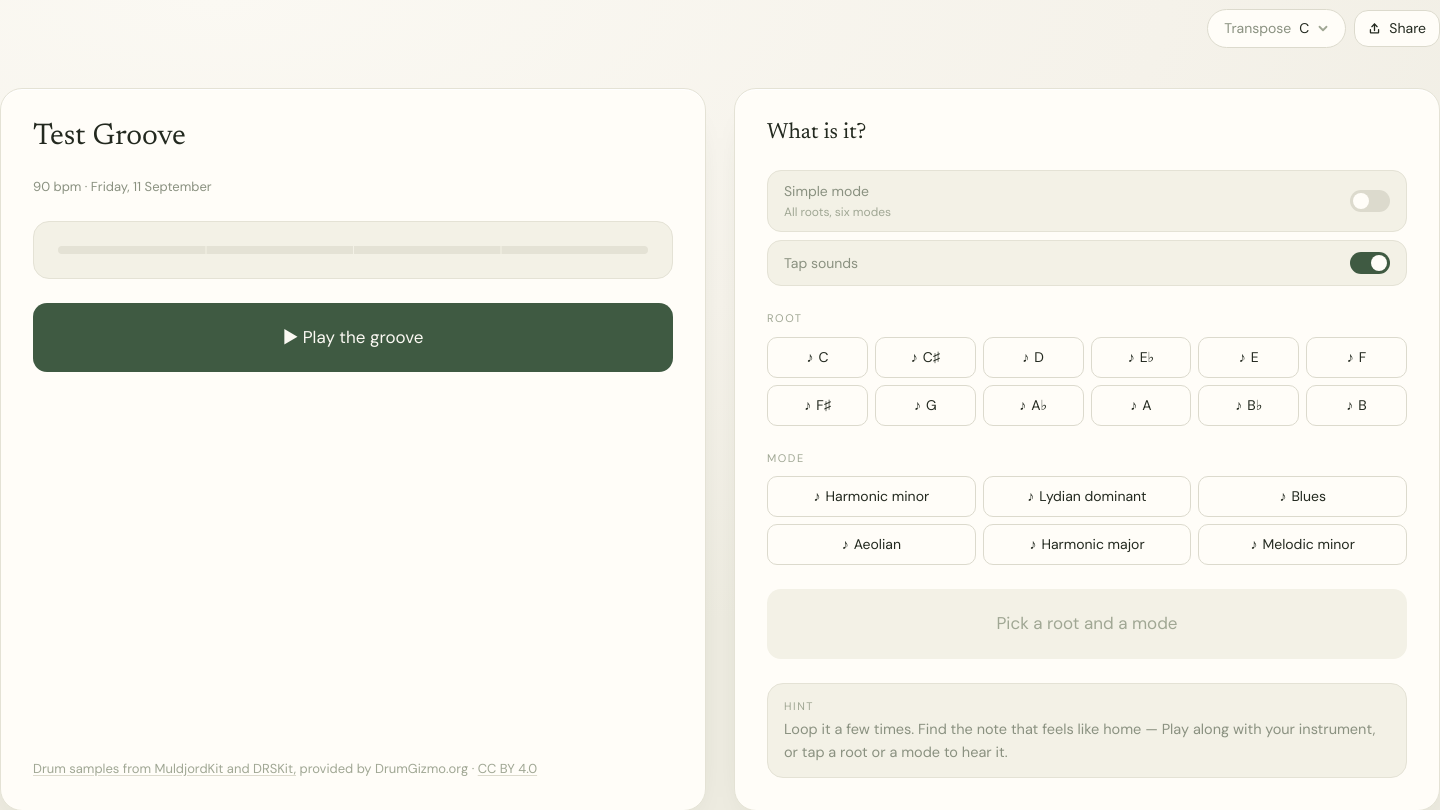
Test: GroovePuzzle › records the guess and names the half that matched on each wrong guess (E3 R1, R3, AC2, AC5, AC7)
(page scrolled)
Click the button "♪ G": click(925, 405) x1=875 y1=385 x2=976 y2=426
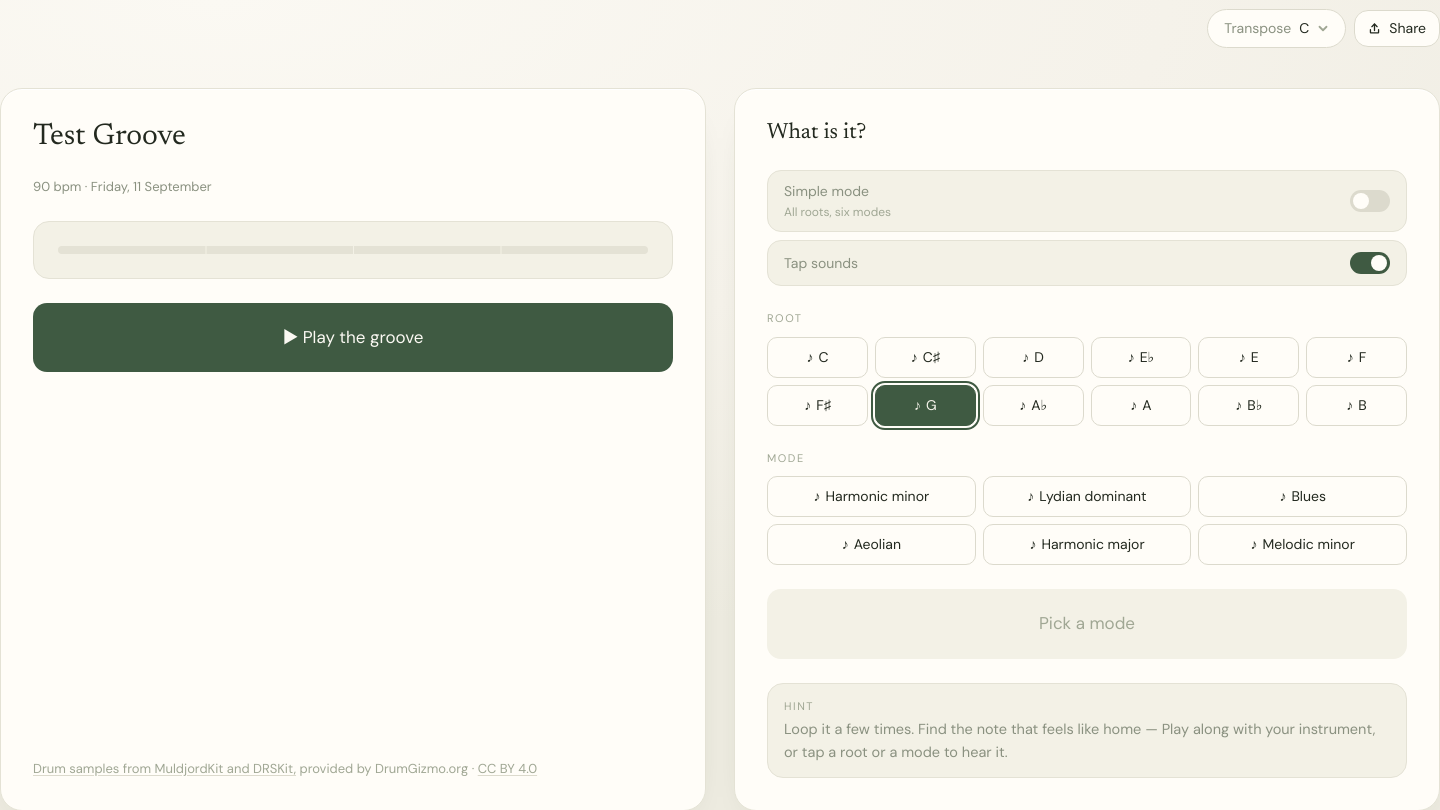
Click the button "♪ Harmonic minor": click(871, 497) x1=767 y1=476 x2=976 y2=517
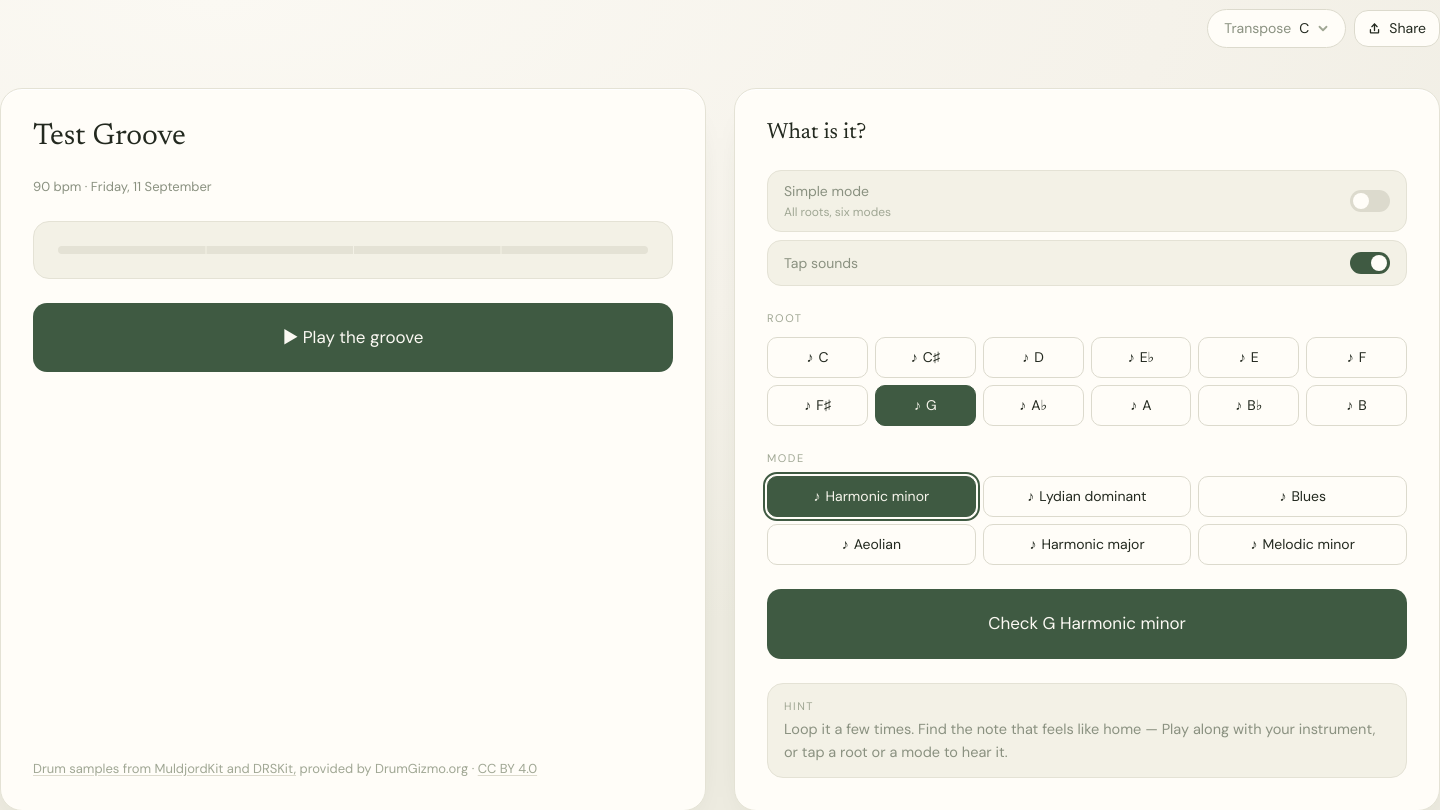
Click the button "Check G Harmonic minor": click(1087, 624) x1=767 y1=589 x2=1407 y2=659
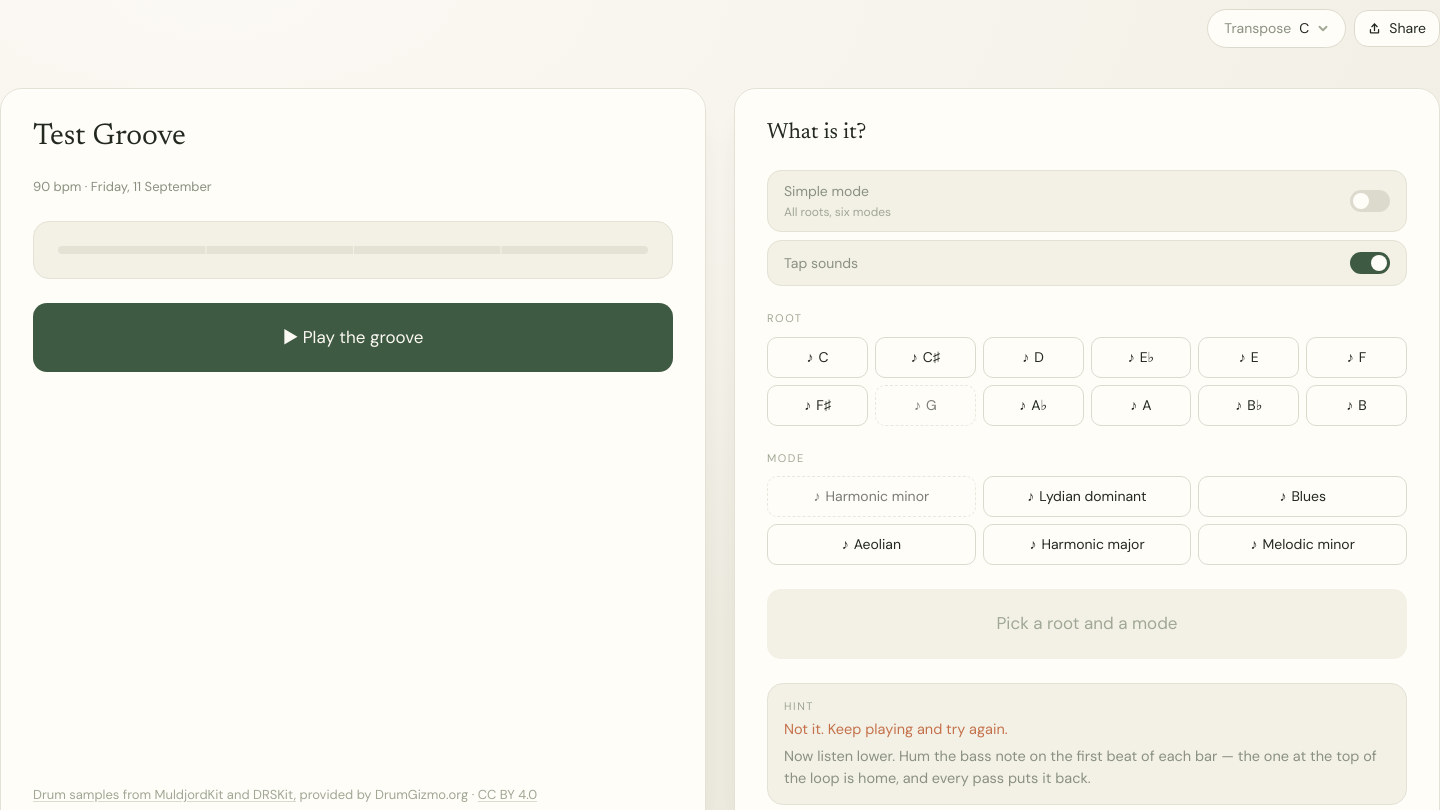
Expected: the text "Not it. Keep playing and try again." is shown, x1=784 y1=720 x2=1008 y2=738
Click the button "♪ C": click(817, 357) x1=767 y1=337 x2=868 y2=378
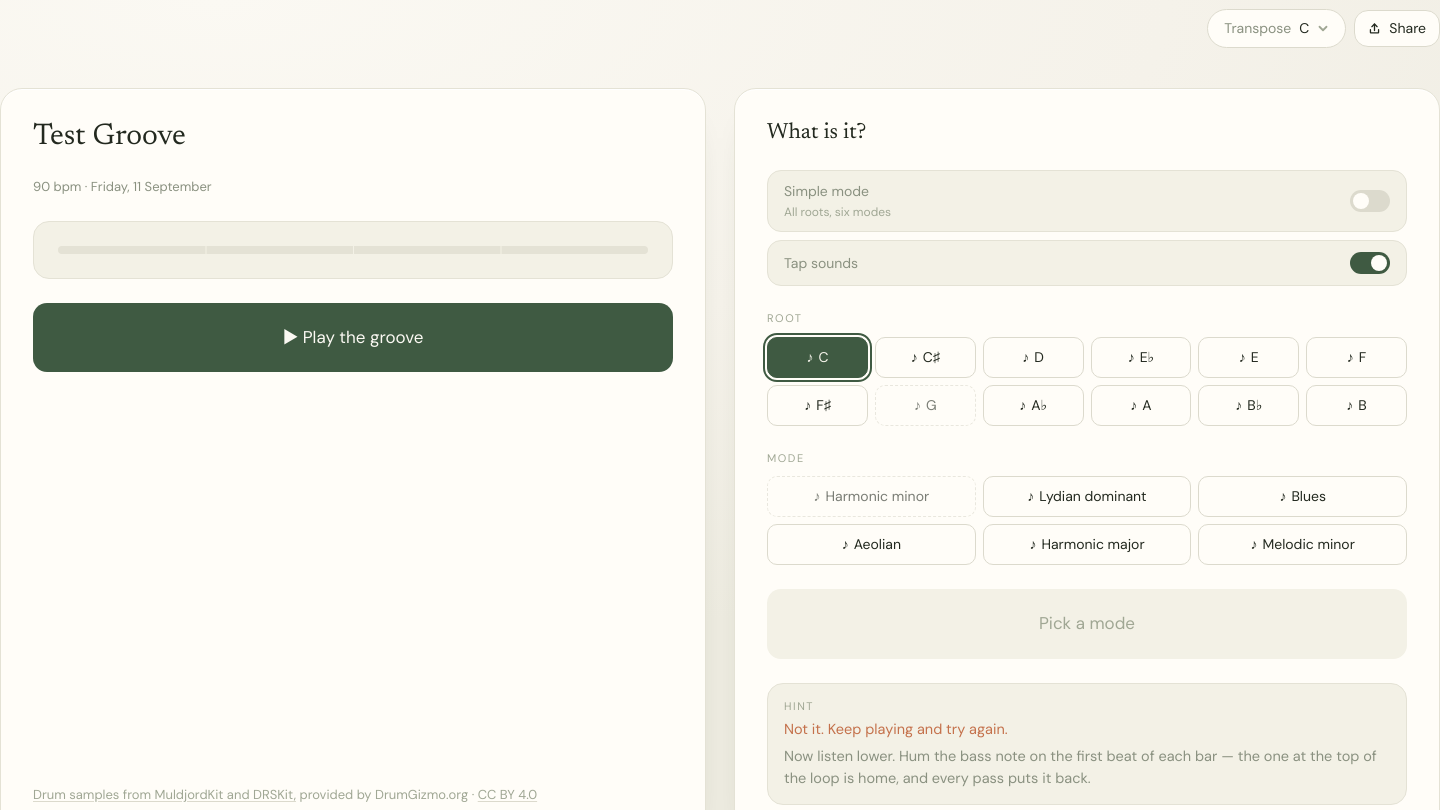
Click the button "♪ Lydian dominant": click(1087, 497) x1=983 y1=476 x2=1191 y2=517
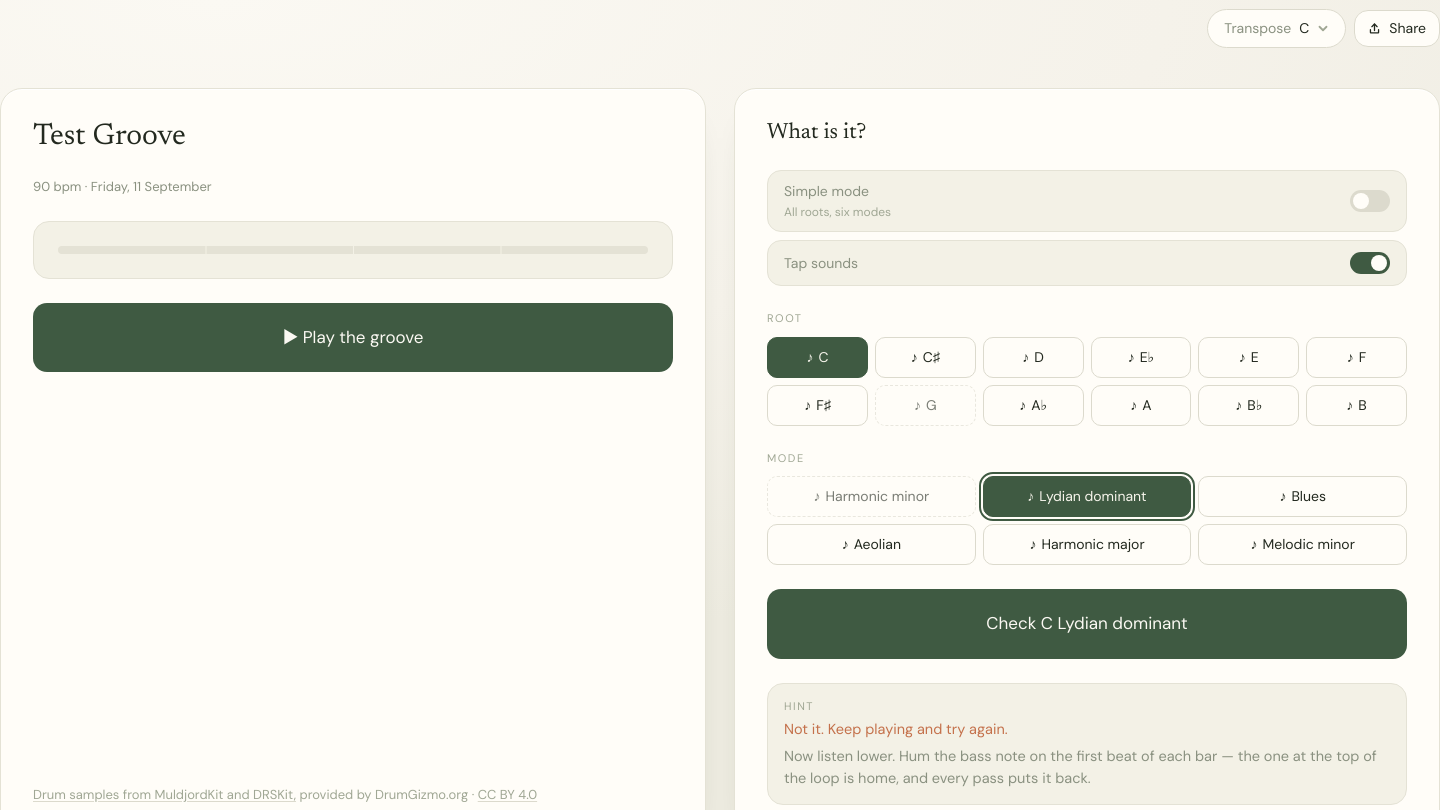
Click the button "Check C Lydian dominant": click(1087, 624) x1=767 y1=589 x2=1407 y2=659
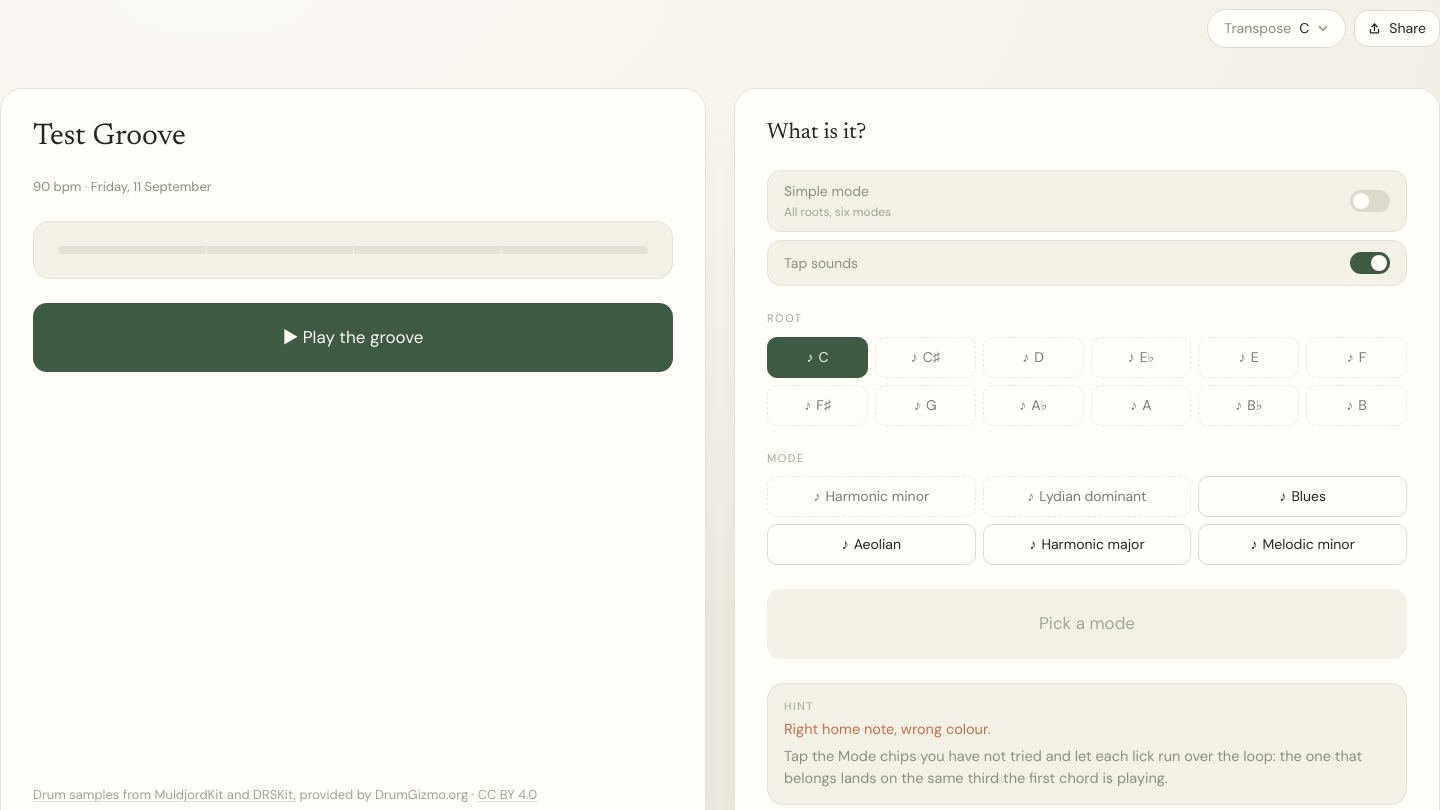
Expected: the text "Right home note, wrong colour." is shown, x1=784 y1=720 x2=991 y2=738
